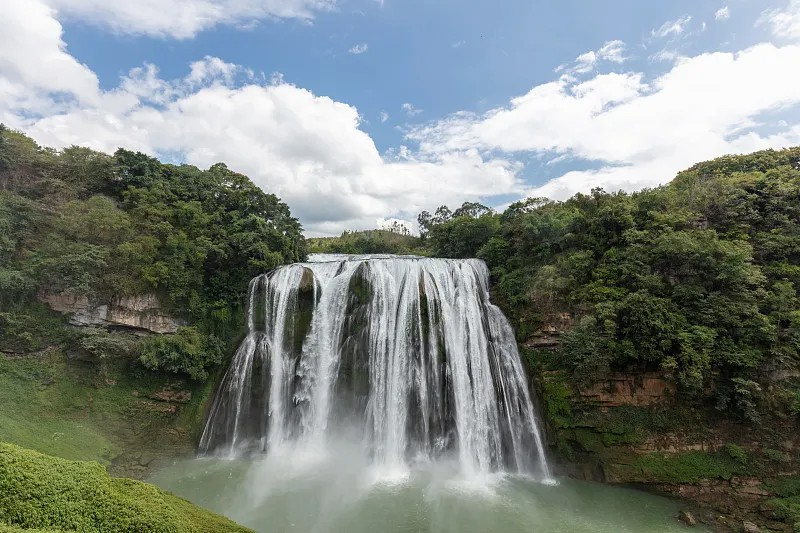Huangguoshu: (204, 253, 555, 485)
